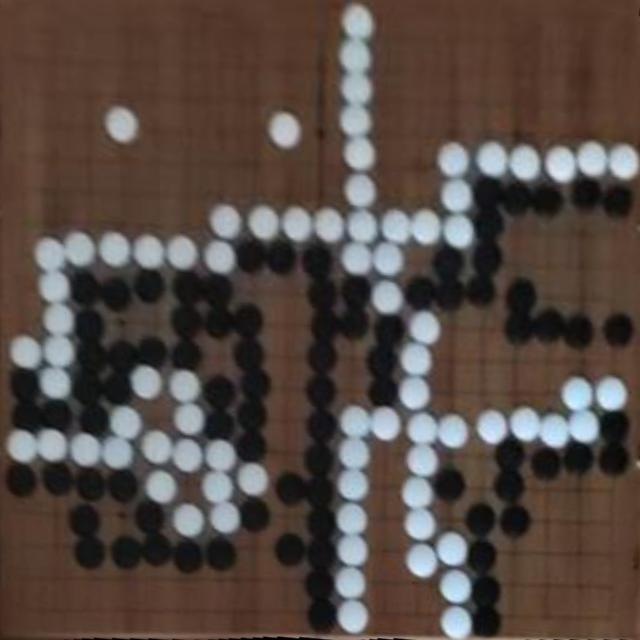blackstone: (74, 535, 108, 570), (275, 471, 309, 505), (532, 184, 564, 220), (105, 470, 138, 503), (601, 184, 633, 218), (112, 536, 144, 570), (467, 539, 499, 573), (562, 314, 594, 348), (465, 274, 497, 308), (232, 303, 264, 337), (302, 244, 334, 278), (206, 538, 238, 571), (239, 499, 271, 532), (465, 503, 497, 536), (274, 532, 306, 565), (68, 504, 101, 536), (201, 274, 234, 306), (306, 409, 338, 442), (6, 462, 37, 496), (533, 308, 564, 342), (171, 303, 202, 337), (604, 312, 634, 347), (70, 270, 100, 305), (173, 540, 205, 572), (434, 468, 466, 500), (306, 600, 338, 632), (366, 346, 398, 378), (203, 376, 235, 408), (572, 177, 603, 210), (500, 504, 531, 537), (470, 575, 501, 608), (598, 443, 629, 476), (494, 470, 525, 503), (74, 468, 105, 501), (434, 277, 464, 311), (507, 279, 537, 313), (10, 368, 40, 402), (101, 277, 131, 311), (135, 269, 165, 303), (342, 276, 372, 310), (405, 276, 434, 311), (504, 180, 532, 216), (563, 442, 594, 474), (474, 177, 504, 210), (472, 242, 502, 275), (375, 314, 405, 347), (143, 533, 173, 566), (73, 371, 103, 404), (172, 337, 202, 370), (75, 308, 104, 342), (267, 241, 296, 275), (309, 308, 338, 342), (204, 304, 232, 339), (41, 400, 72, 431), (306, 539, 337, 570), (531, 447, 561, 479), (600, 411, 630, 443), (434, 246, 464, 278), (503, 313, 533, 345), (135, 501, 165, 533), (308, 277, 338, 309), (308, 341, 337, 374), (102, 371, 130, 405), (76, 342, 107, 372), (236, 434, 267, 464), (338, 310, 369, 340), (472, 605, 501, 637), (496, 438, 525, 470), (172, 271, 201, 303), (237, 239, 266, 271), (307, 376, 336, 408), (305, 444, 334, 476), (474, 210, 504, 240), (80, 404, 110, 434), (106, 340, 136, 370), (44, 464, 72, 496), (308, 508, 336, 540), (368, 378, 398, 407), (205, 410, 234, 440), (241, 370, 270, 400), (138, 336, 166, 367), (235, 339, 263, 370), (238, 401, 266, 432), (308, 476, 335, 508), (12, 402, 41, 431), (305, 571, 335, 599)
whitestone: (68, 431, 102, 468), (105, 107, 139, 143), (173, 502, 207, 538), (439, 568, 473, 604), (132, 233, 166, 269), (476, 140, 510, 176), (342, 3, 375, 40), (36, 427, 69, 464), (270, 112, 302, 150), (544, 144, 576, 182), (202, 469, 236, 504), (204, 438, 238, 473), (406, 442, 440, 477), (204, 239, 238, 274), (560, 376, 594, 411), (343, 173, 378, 207), (172, 436, 205, 472), (130, 364, 163, 400), (436, 531, 469, 567), (173, 402, 207, 436), (236, 462, 270, 496), (371, 279, 405, 313), (399, 342, 433, 376), (145, 469, 178, 504), (209, 500, 242, 535), (64, 231, 97, 266), (408, 310, 441, 345), (406, 543, 439, 578), (166, 234, 199, 269), (341, 241, 374, 276), (99, 231, 131, 267), (595, 376, 627, 412), (476, 409, 508, 445), (608, 143, 640, 179), (282, 205, 314, 241), (509, 144, 541, 180), (110, 405, 143, 439), (102, 437, 136, 470), (141, 430, 174, 464), (399, 376, 432, 410), (343, 137, 376, 171), (10, 334, 42, 369), (209, 204, 241, 239), (438, 142, 470, 177), (407, 411, 439, 446), (437, 413, 469, 448), (248, 205, 280, 240), (372, 241, 404, 276), (510, 406, 541, 442), (576, 142, 606, 179), (42, 304, 75, 337), (404, 508, 437, 541), (338, 436, 371, 469), (440, 178, 473, 211), (337, 600, 369, 634), (40, 368, 74, 400), (42, 336, 76, 368), (336, 534, 368, 568), (443, 214, 475, 248), (339, 40, 373, 72), (340, 73, 374, 105), (346, 208, 378, 242), (411, 208, 442, 243), (6, 428, 36, 464), (35, 236, 65, 272), (441, 606, 474, 638), (169, 370, 202, 402), (339, 404, 371, 437), (369, 405, 400, 439), (567, 411, 598, 445), (314, 207, 345, 241), (339, 105, 373, 136), (540, 412, 570, 447), (382, 208, 411, 244), (402, 476, 434, 508), (336, 503, 368, 535), (337, 469, 369, 501), (335, 566, 367, 598), (38, 272, 71, 303)
